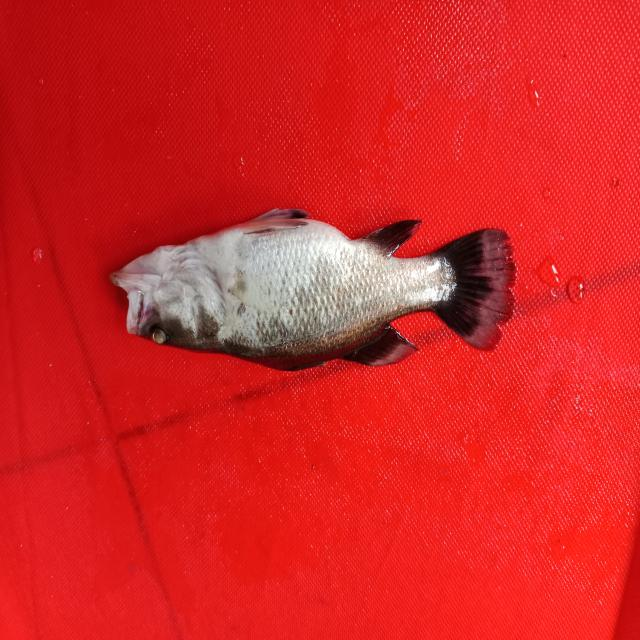ikan: (97, 187, 534, 391)
